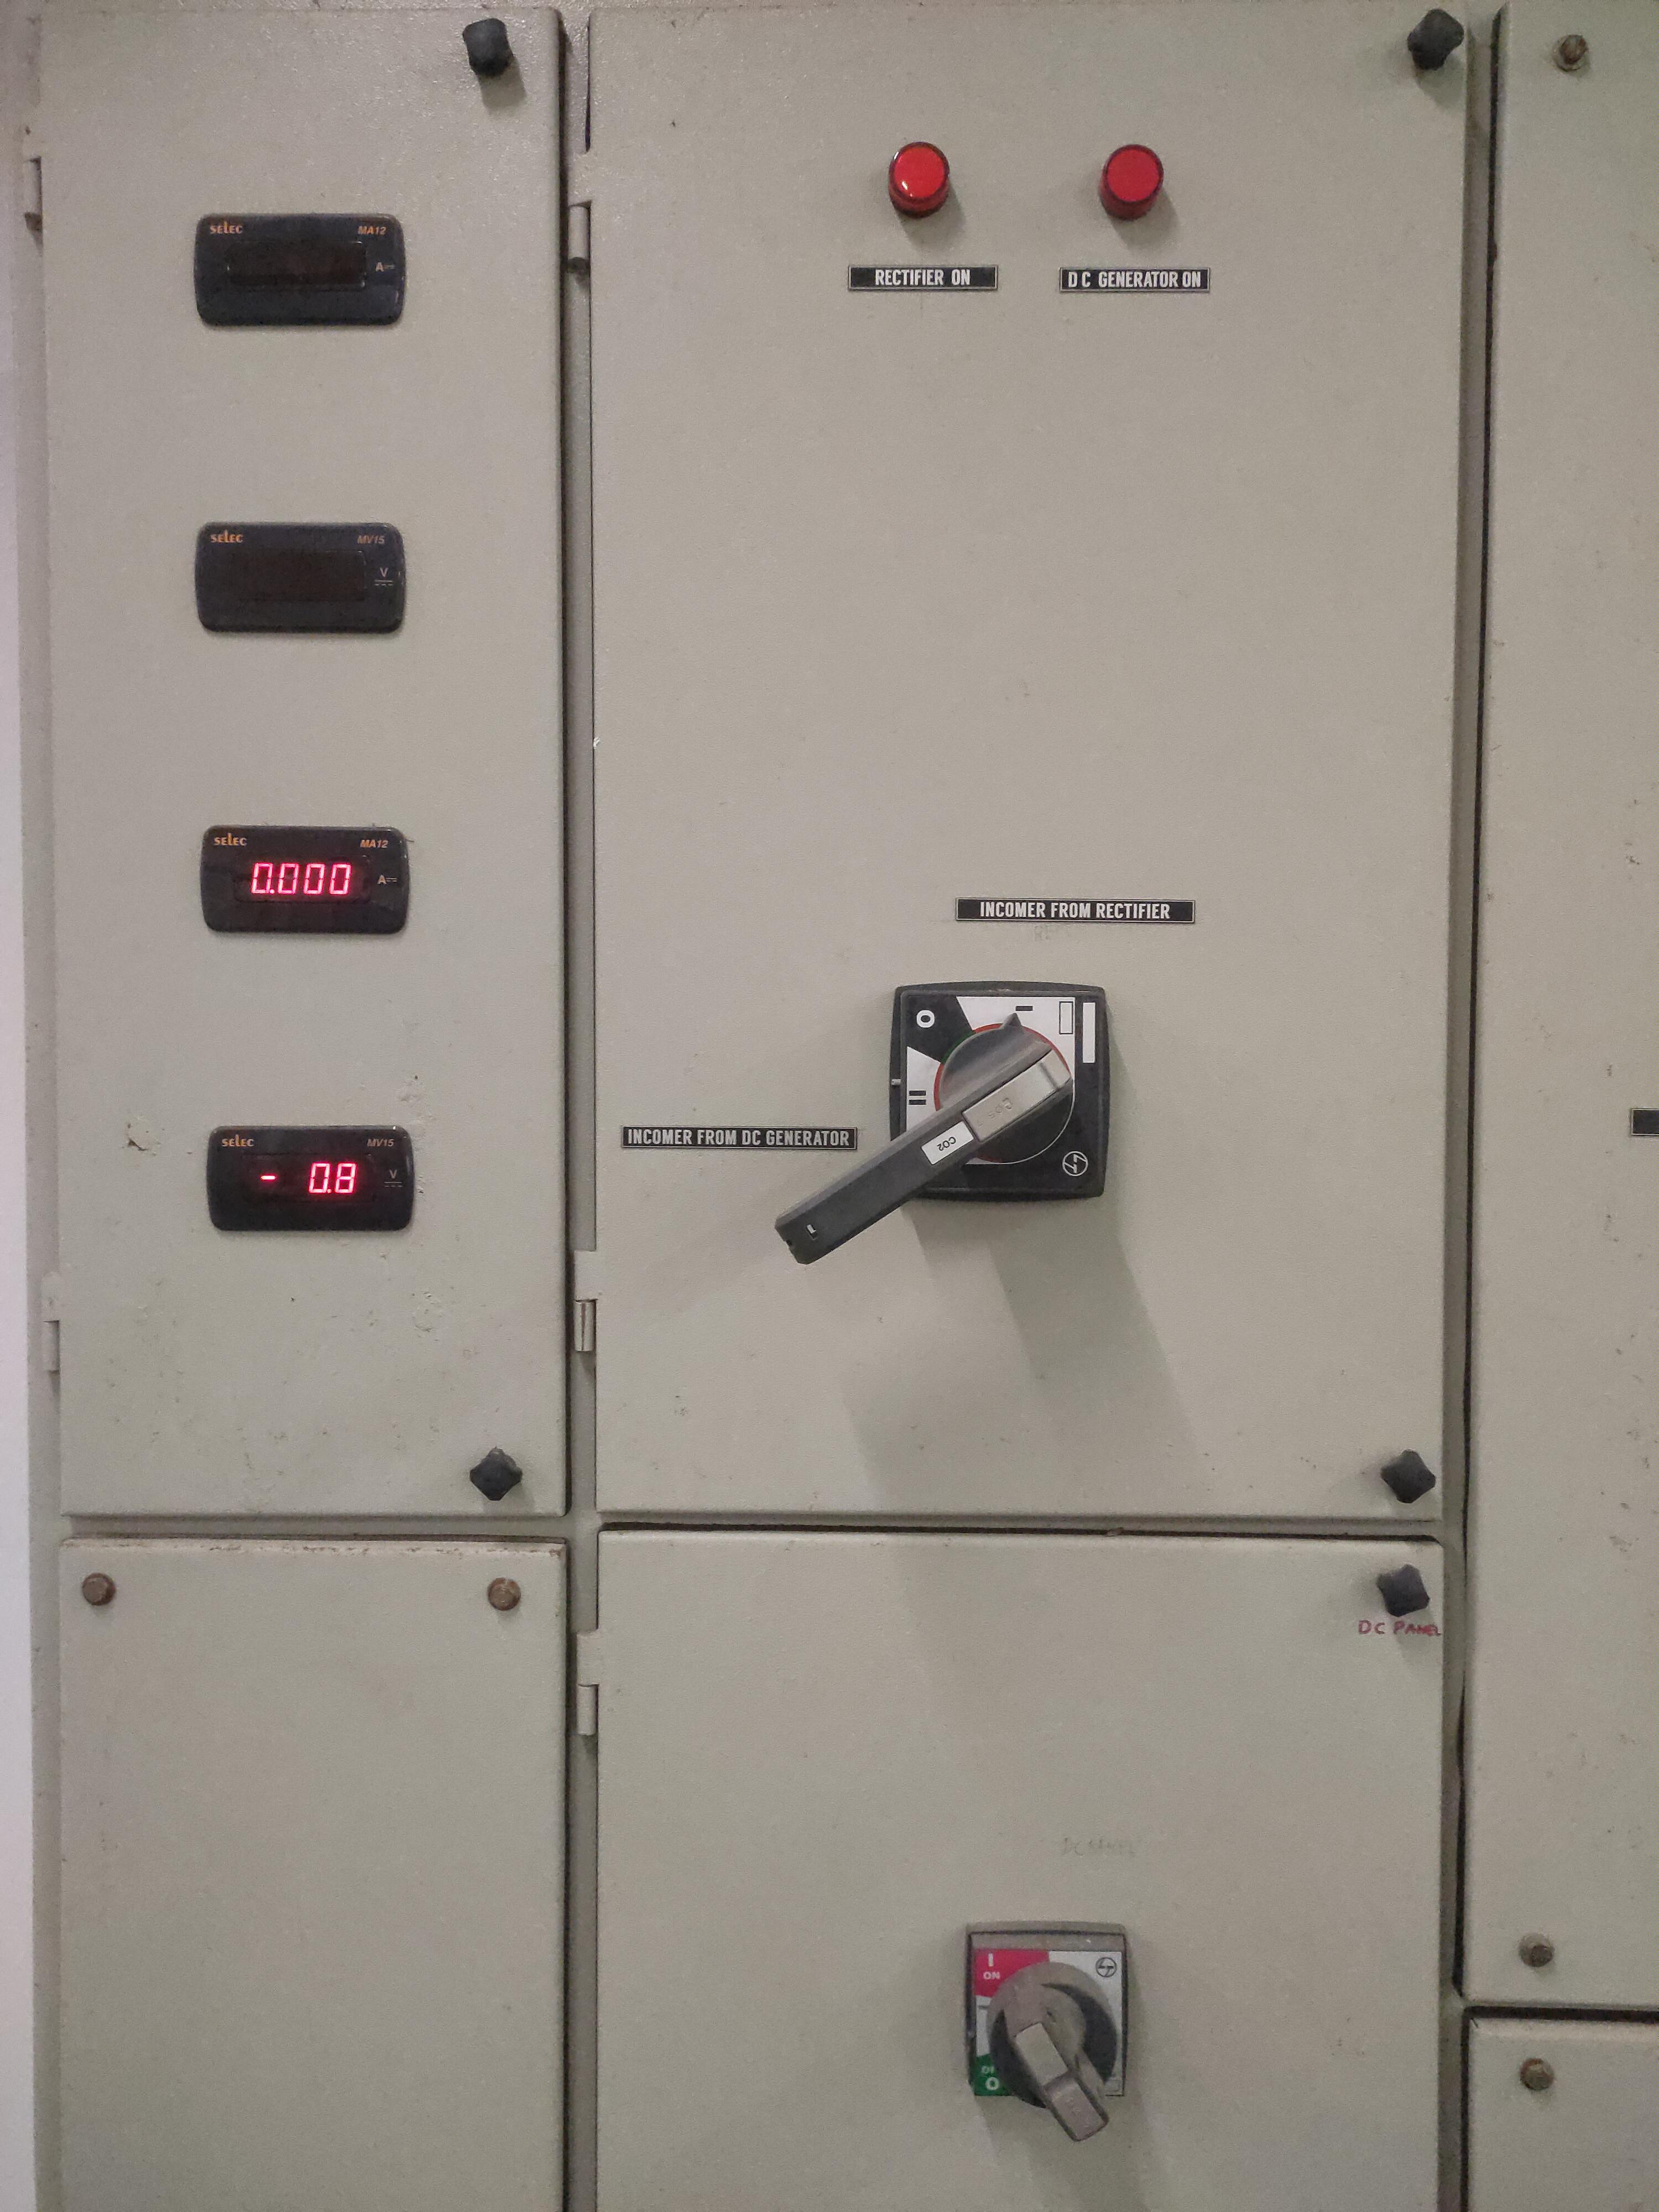Knob 1: (737, 930, 1143, 1313)
Knob 2: (917, 1890, 1204, 2149)
Light Indications: (812, 98, 1253, 326)
